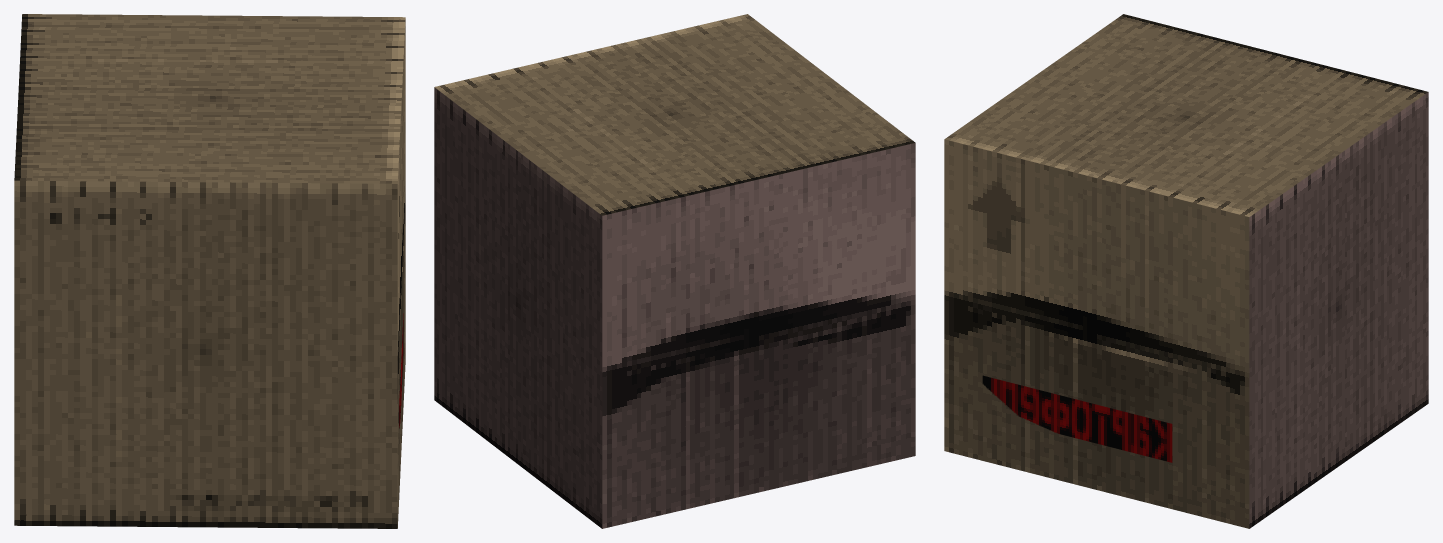
File: primary_125.glb
3 renders of one model, left to right at view 1: azimuth 30°, elevation 25°; view 2: azimuth 150°, elevation 25°; view 3: azimuth 270°, elevation 25°, orthographic. The views are drawn at different scales.
Parts seen in each view (by area): view 1: Object; view 2: Object; view 3: Object.
Boxes of the visible parts, bbox=[...] form: Object: bbox=[14, 14, 405, 528]; Object: bbox=[434, 14, 915, 528]; Object: bbox=[944, 14, 1428, 528].
Size of the model in its own units: 1.5 by 1.07 by 1.51.
7 materials, 7 textured.
